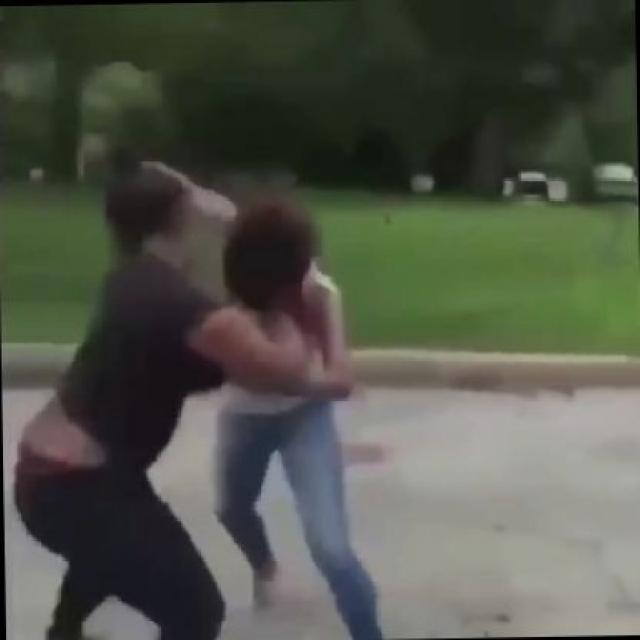fight: (14, 151, 386, 640)
